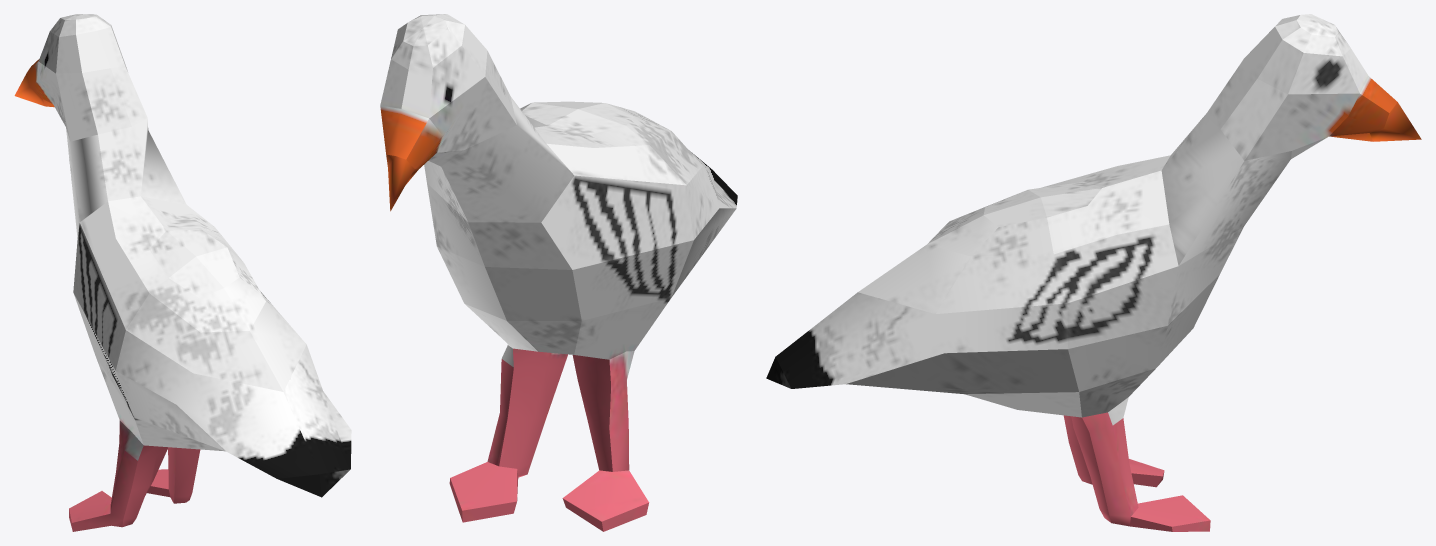
File: StandingGull.fbx
3 renders of one model, left to right at view 1: azimuth 30°, elevation 25°; view 2: azimuth 150°, elevation 25°; view 3: azimuth 270°, elevation 25°, orthographic. The views are drawn at different scales.
Visible parts, largest first — view 1: pSphere3; view 2: pSphere3; view 3: pSphere3.
Boxes of the visible parts, <box> form: pSphere3: <box>14,14,351,531</box>; pSphere3: <box>380,14,737,531</box>; pSphere3: <box>766,14,1421,531</box>.
Bounding box in the file's own units: 0.438 × 1.12 × 1.32.
1 material, 1 textured.
